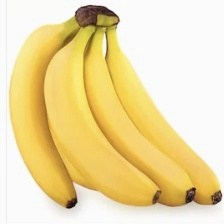banana: (43, 16, 216, 176)
